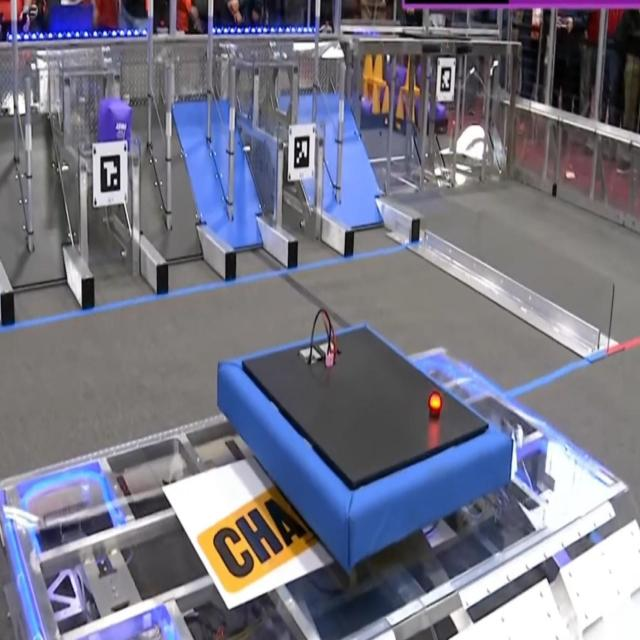frc_cone: (404, 63, 418, 93), (371, 54, 384, 86), (368, 84, 380, 117), (364, 51, 374, 82), (382, 84, 392, 112), (398, 86, 403, 120)
frc_cube: (98, 98, 130, 150), (432, 98, 444, 122), (361, 98, 371, 117), (396, 65, 405, 83)
